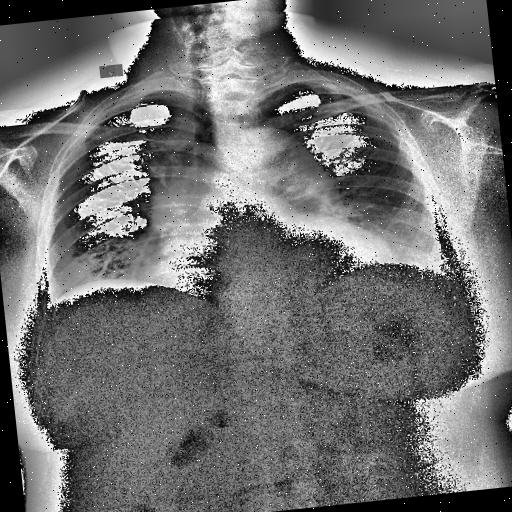0- Aortic enlargement: (206, 120, 340, 214), (230, 118, 334, 202), (218, 124, 307, 190)
3- Cardiomegaly: (137, 230, 405, 324), (140, 225, 397, 305), (132, 217, 390, 293)
